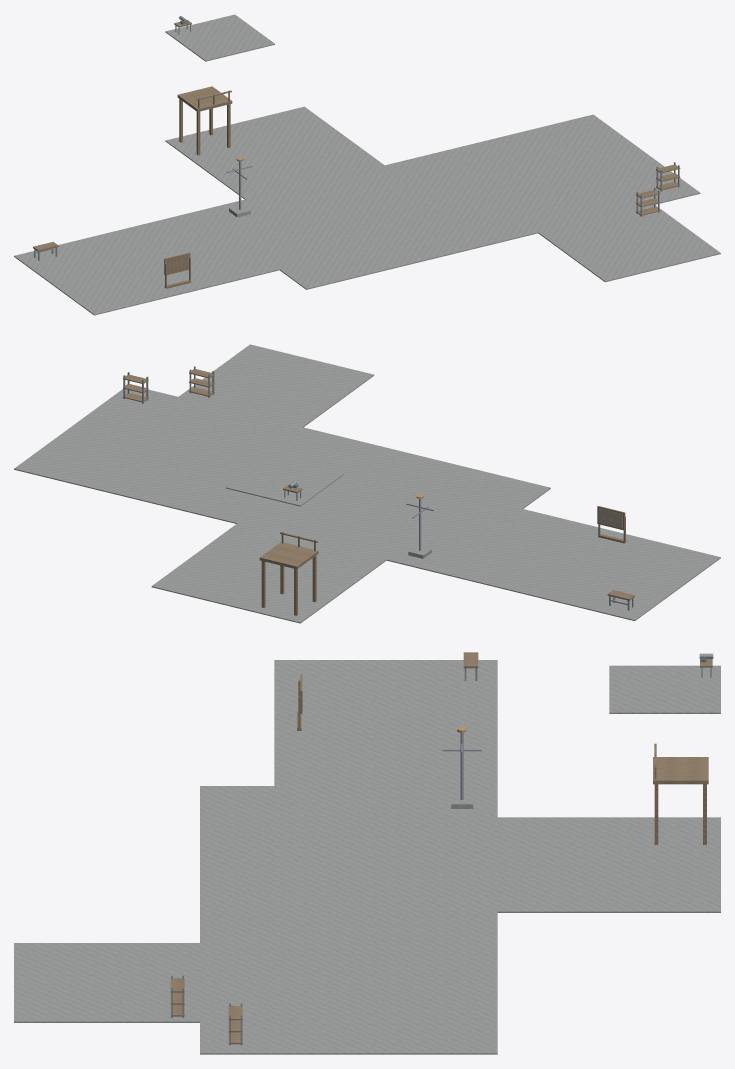
Rendered from wld-04.glb.
3 renders of one model, top to bottom at view 1: azimuth 30°, elevation 25°; view 2: azimuth 150°, elevation 25°; view 3: azimuth 270°, elevation 25°, orthographic. The views are drawn at different scales.
Parts seen in each view (by area): view 1: review_fit_wld; view 2: review_fit_wld; view 3: review_fit_wld.
Boxes of the visible parts, x1=… form: review_fit_wld: x1=14, y1=14, x2=720, y2=315; review_fit_wld: x1=14, y1=344, x2=720, y2=623; review_fit_wld: x1=14, y1=652, x2=720, y2=1054.
Size of the model in its own units: 50 by 10.26 by 38.
6 materials, 6 textured.
